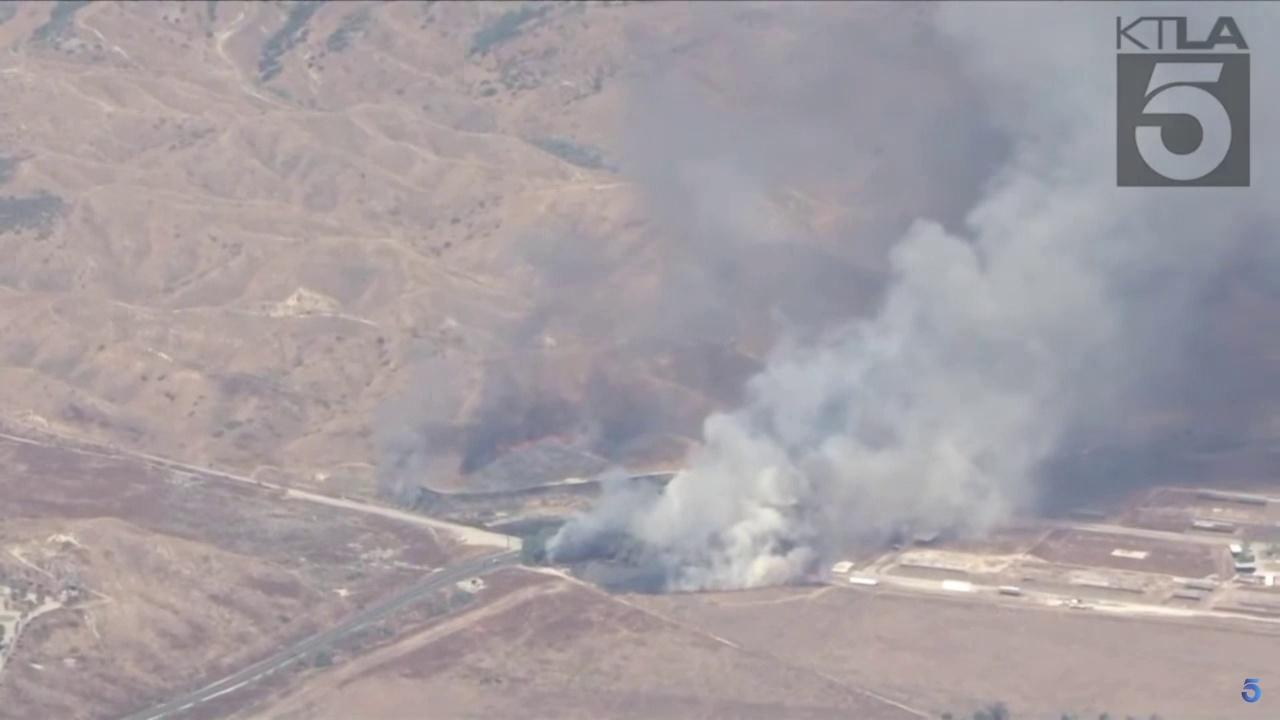fire: (508, 433, 565, 453)
smoke: (381, 0, 1280, 594)
